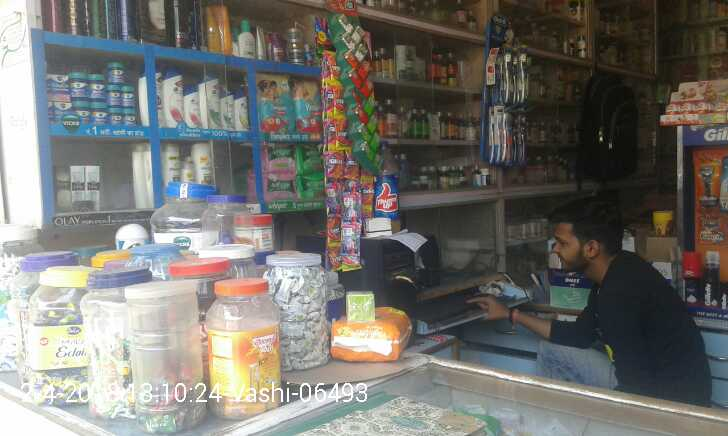oralcare: (517, 112, 532, 166), (502, 112, 513, 164), (519, 52, 530, 102), (503, 53, 514, 100), (486, 113, 496, 164), (496, 113, 502, 164), (514, 53, 519, 102), (513, 112, 517, 166)
vicks: (69, 72, 87, 100), (106, 61, 125, 86), (50, 74, 65, 100), (54, 102, 72, 123), (87, 76, 102, 100), (106, 86, 122, 108), (77, 102, 92, 125), (122, 88, 138, 108), (92, 103, 105, 125), (123, 109, 138, 126), (110, 110, 123, 126)
